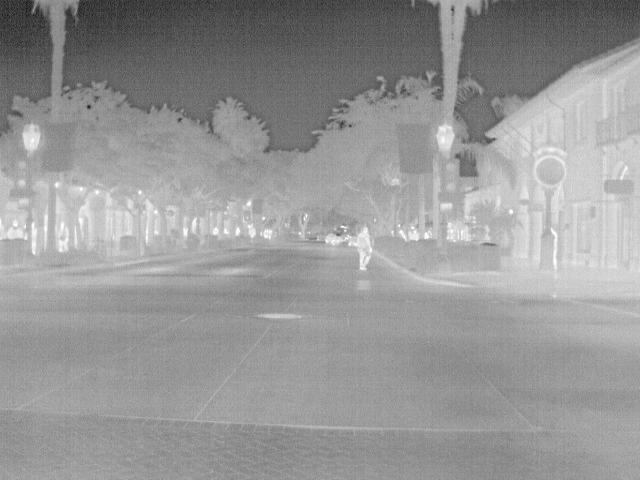car: (323, 230, 346, 246)
person: (355, 224, 373, 269), (4, 218, 26, 240), (53, 221, 68, 252), (29, 219, 42, 254)
